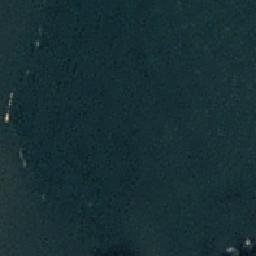debris: (225, 235, 252, 256), (2, 91, 15, 124), (34, 25, 42, 50)
